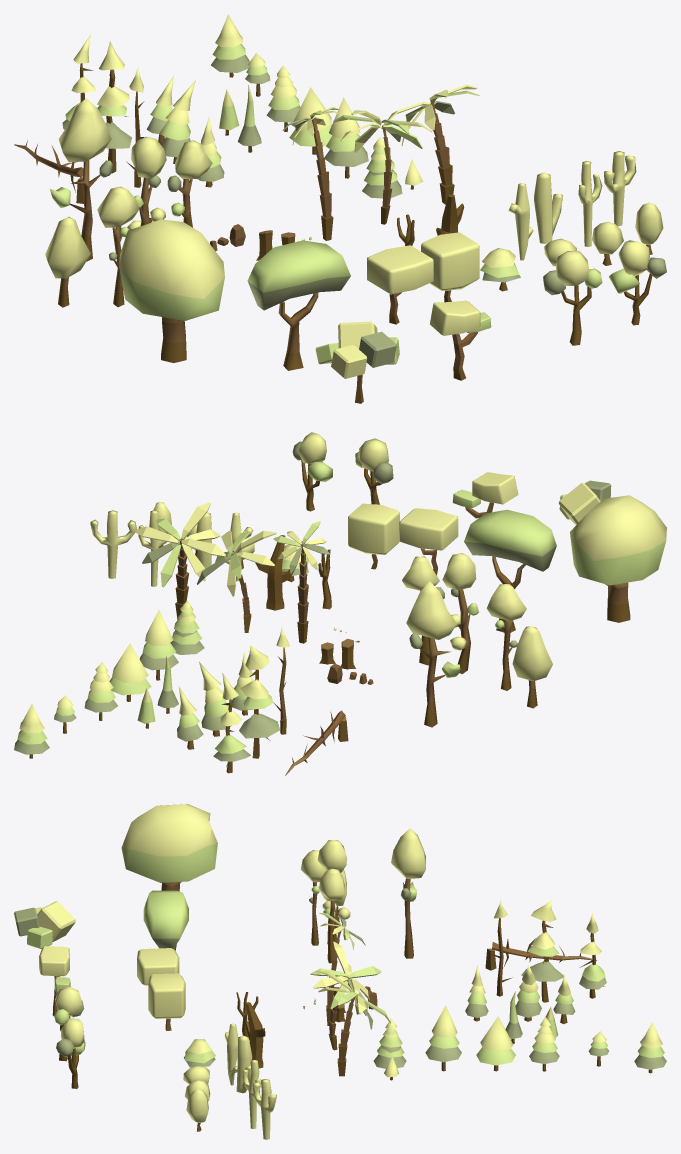
Rendered from SummerD.fbx.
3 views of the same model, one above another, from view 1: azimuth 30°, elevation 25°; view 2: azimuth 150°, elevation 25°; view 3: azimuth 270°, elevation 25° (orthographic). The views are drawn at different scales.
Visible parts, largest first — view 1: tree_gen15, tree_gen16, tree_gen13, tree35, tree34, tree33, tree_gen17, tree37, tree_Maple3, tree36, Tree_Palm_004, Tree3 (+25 smaller); view 2: tree_gen15, tree_gen16, Tree_Palm_004, tree_gen13, tree33, tree34, Tree3, tree_fir6, Tree_palm3, palm5, tree_Maple3, tree37 (+20 smaller); view 3: tree_gen15, tree_gen16, tree_gen13, tree35, tree33, Tree_palm3, tree_fir6, Tree_Palm_004, Gen_Tree_Fir42, Gen_Tree_Fir47, tree34, tree37 (+22 smaller).
Boxes of the visible parts, box(x1,y1,x2,y2) form: tree_gen15: box(119, 219, 224, 362); tree_gen16: box(247, 240, 350, 370); tree_gen13: box(50, 98, 112, 261); tree35: box(315, 321, 399, 403); tree34: box(367, 245, 433, 324); tree33: box(421, 232, 479, 302); tree_gen17: box(543, 251, 602, 345); tree37: box(430, 300, 491, 380); tree_Maple3: box(45, 216, 90, 307); tree36: box(609, 240, 666, 325); Tree_Palm_004: box(387, 84, 479, 204); Tree3: box(127, 137, 166, 229); tree_gen15: box(570, 495, 666, 622); tree_gen16: box(464, 509, 556, 632); Tree_Palm_004: box(134, 502, 225, 619); tree_gen13: box(406, 581, 460, 727); tree33: box(348, 503, 399, 569); tree34: box(399, 508, 458, 575); Tree3: box(442, 553, 478, 673); tree_fir6: box(239, 645, 279, 758); Tree_palm3: box(197, 530, 276, 632); palm5: box(273, 521, 329, 643); tree_Maple3: box(512, 626, 552, 708); tree37: box(452, 472, 518, 518); tree_gen15: box(121, 804, 217, 891); tree_gen16: box(143, 890, 188, 950); tree_gen13: box(391, 828, 425, 958); tree35: box(14, 901, 75, 948); tree33: box(148, 973, 185, 1030); Tree_palm3: box(310, 941, 381, 1050); tree_fir6: box(521, 900, 563, 1002); Tree_Palm_004: box(316, 970, 390, 1076); Gen_Tree_Fir42: box(425, 1005, 461, 1071); Gen_Tree_Fir47: box(476, 1016, 515, 1071); tree34: box(137, 948, 179, 985); tree37: box(39, 946, 70, 1016).
Size of the model in its own units: 26.16 by 7.74 by 32.17.
